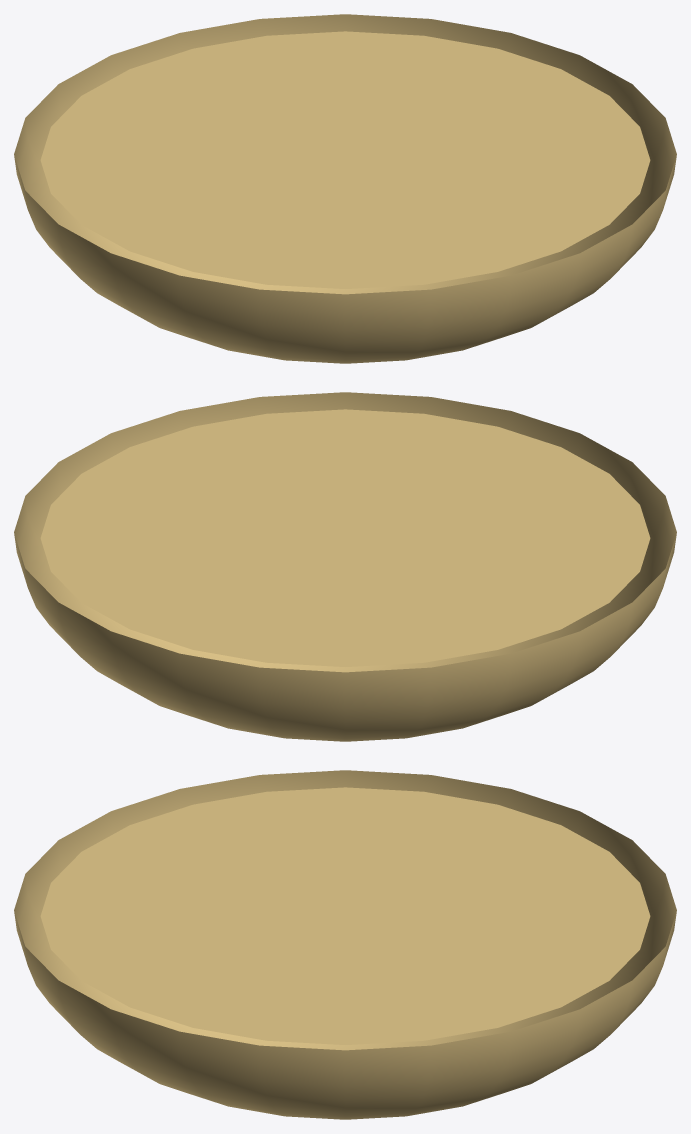
Rendered from kaju-masala.glb.
3 renders of one model, top to bottom at view 1: azimuth 30°, elevation 25°; view 2: azimuth 150°, elevation 25°; view 3: azimuth 270°, elevation 25°, orthographic.
Visible parts, largest first — view 1: Royal Kaju Masala; view 2: Royal Kaju Masala; view 3: Royal Kaju Masala.
Boxes of the visible parts, x1,y1,x2,y2 form: Royal Kaju Masala: (14,14,676,363); Royal Kaju Masala: (14,392,676,741); Royal Kaju Masala: (14,770,676,1119).
Size of the model in its own units: 2 by 0.52 by 2.
